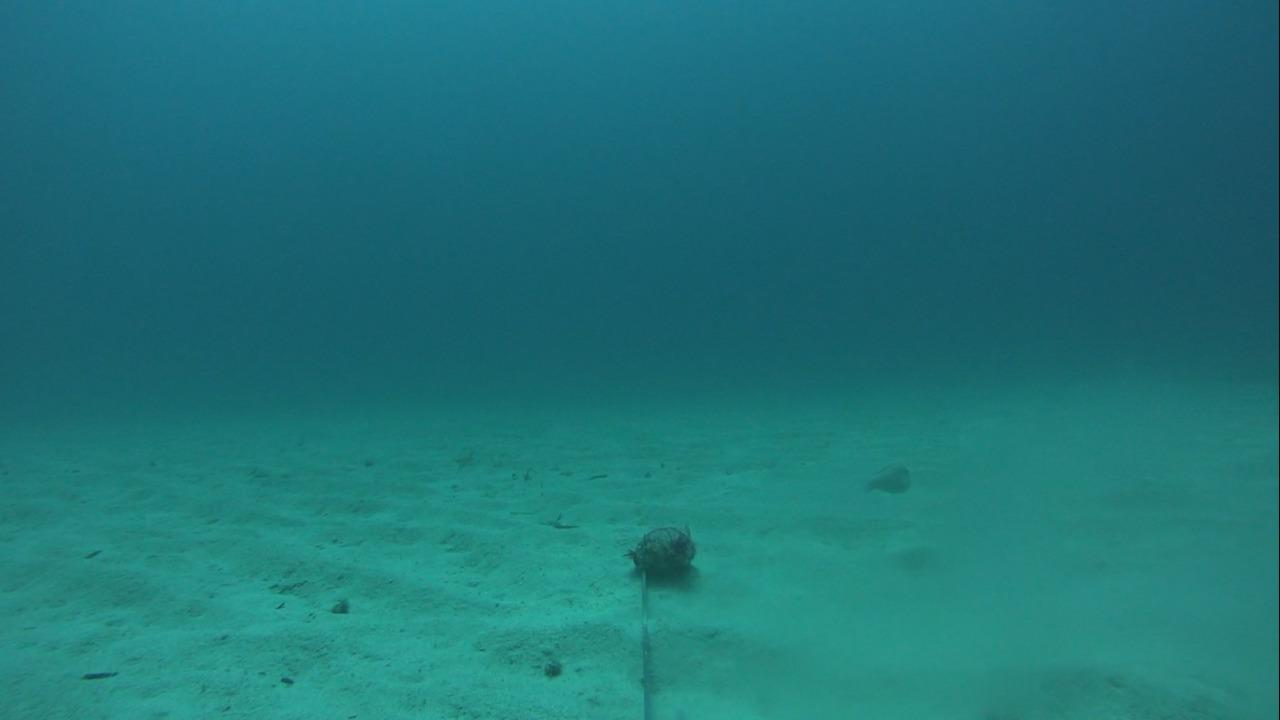raor: (850, 456, 917, 502)
